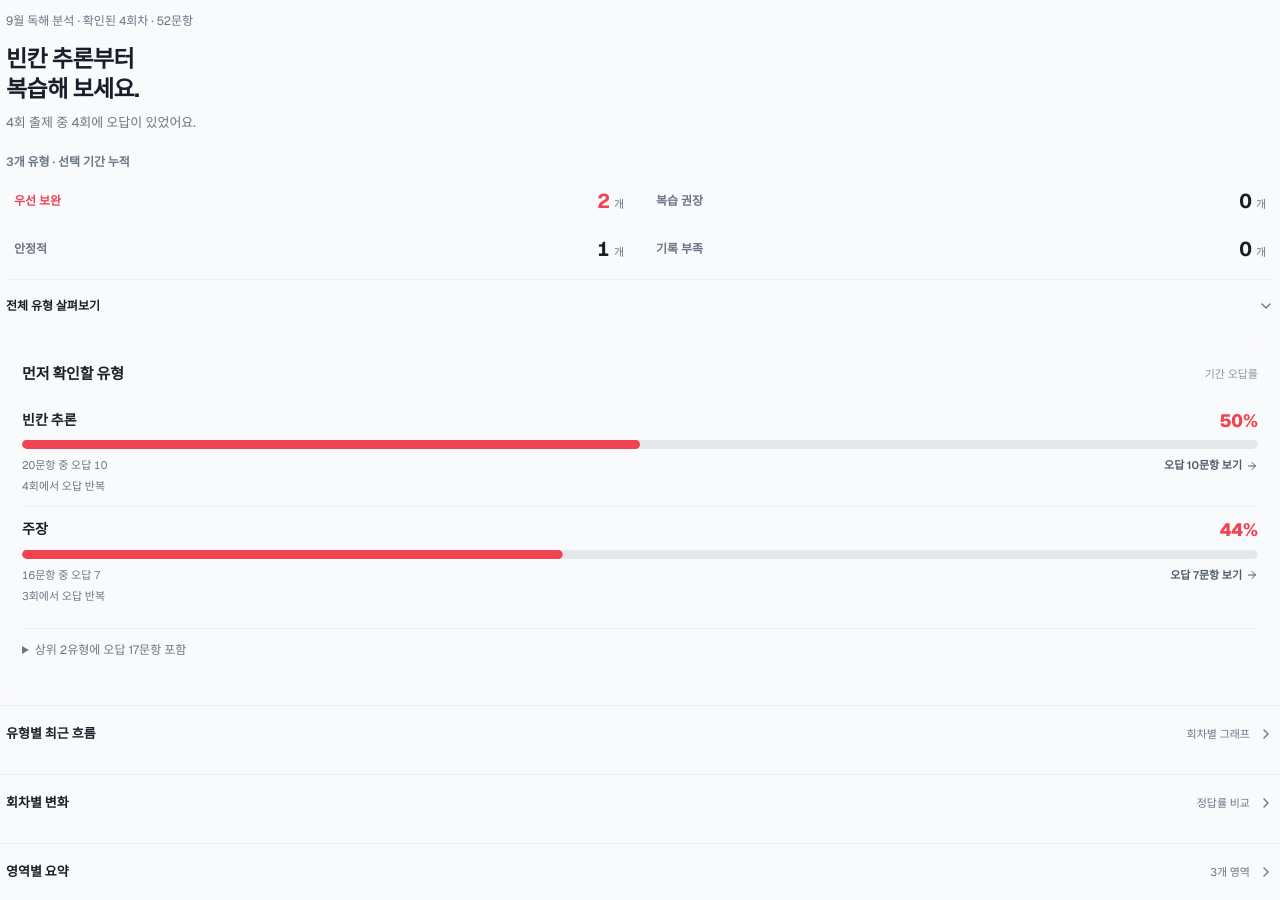
Test: 분석 화면 › 전체 유형 요약과 누적 비교를 먼저 보여주고 최근 그래프와 세부 분석은 독립적으로 펼친다
This screenshot has width=1280, height=900.
Click the text "영역별 요약" at (37, 872), box [6, 862, 69, 882]
(page scrolled)
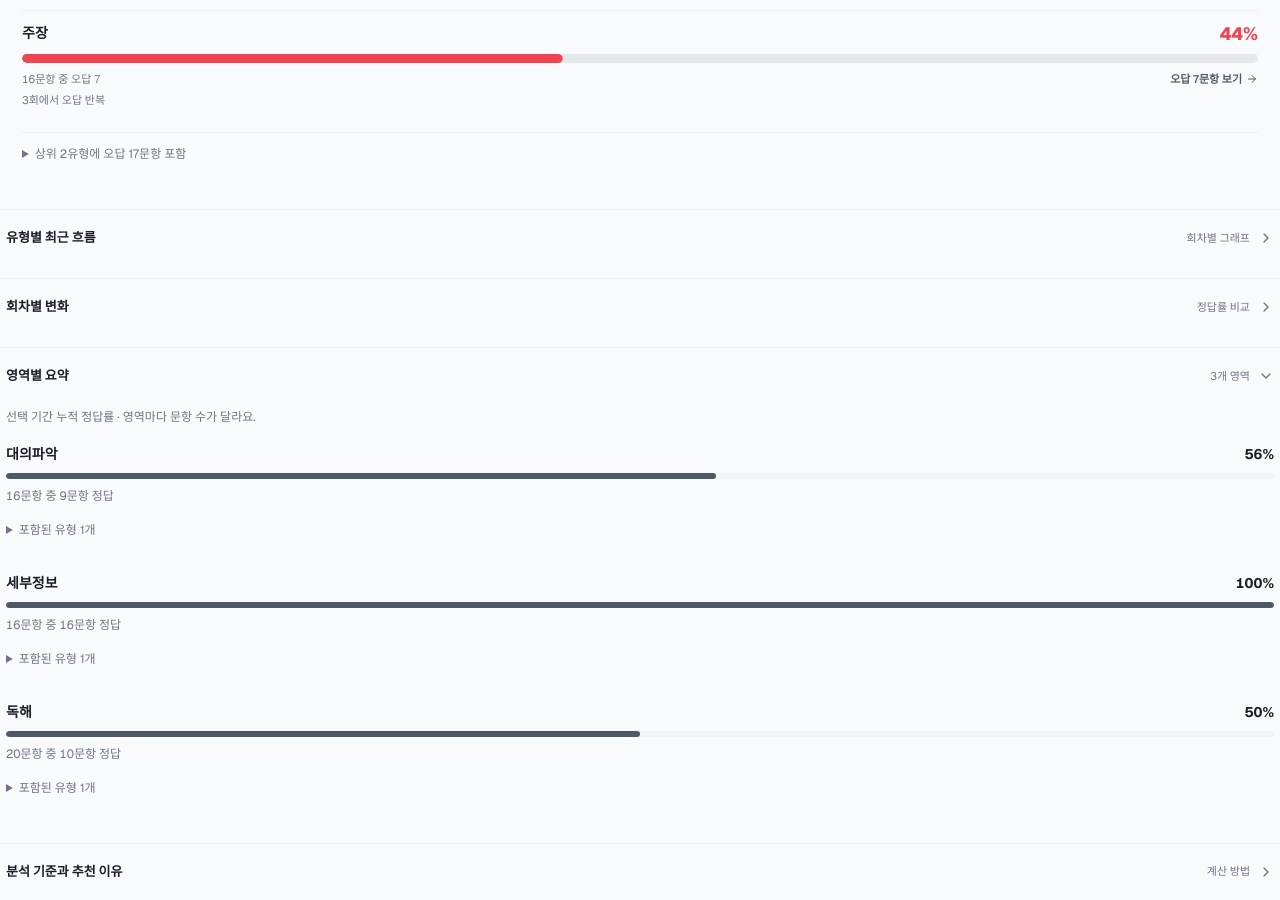
Check: the element named "영역별 요약" is shown, box [6, 404, 1274, 830]
Click the text "분석 기준과 추천 이유" at (64, 872), box [6, 862, 122, 881]
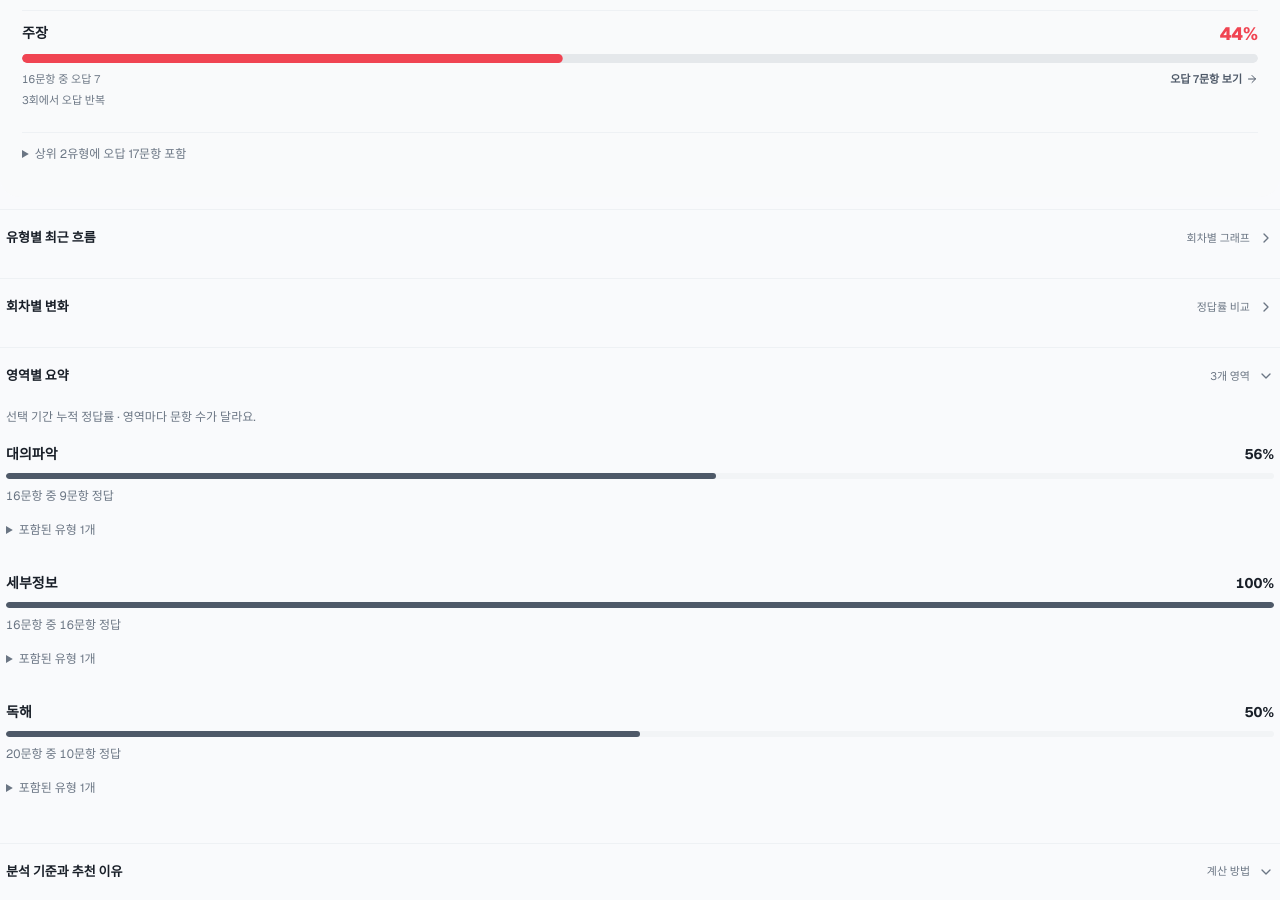
Click the text "유형별 최근 흐름" at (51, 238), box [6, 228, 96, 248]
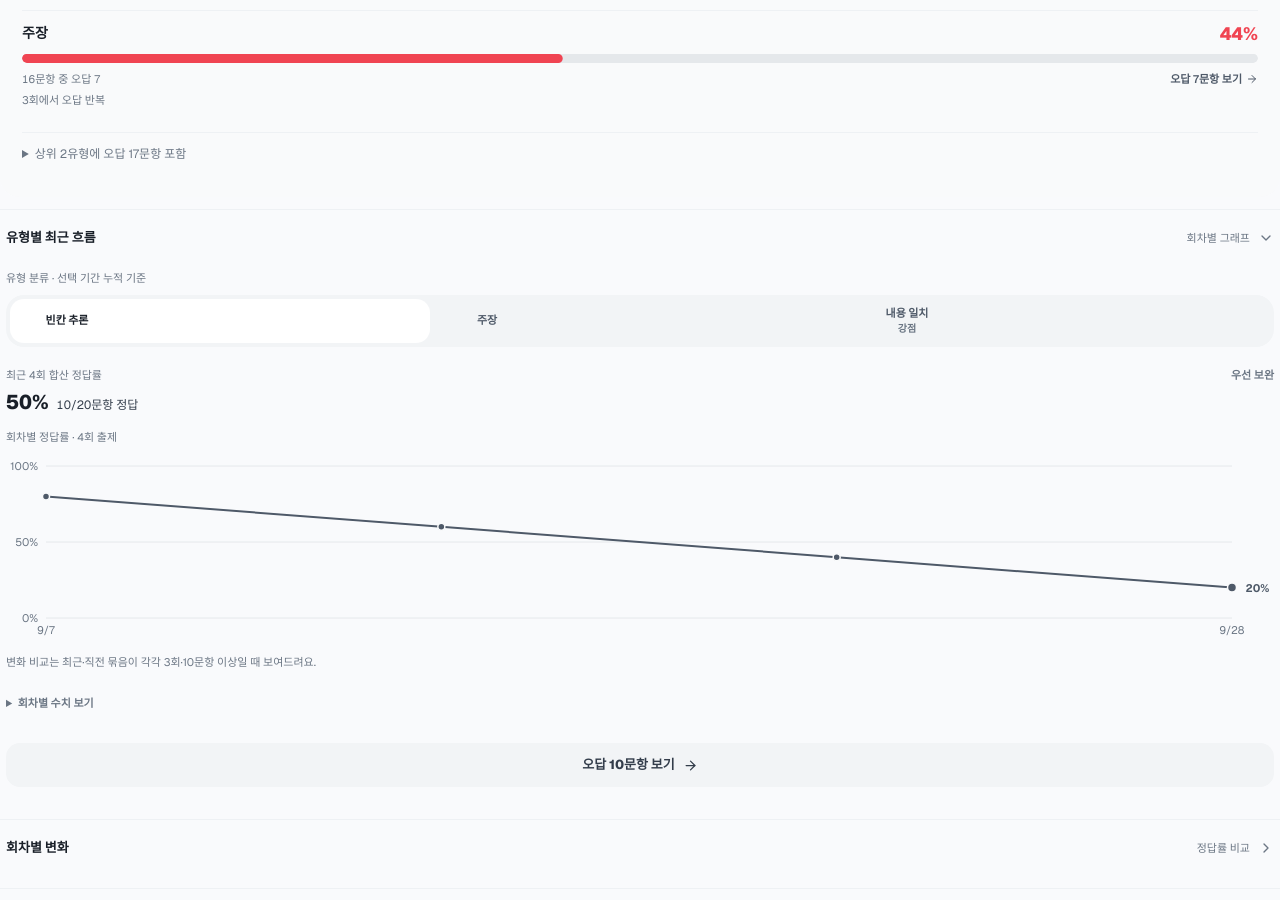
Check: the number of pictures is 1, box [6, 450, 1274, 646]
